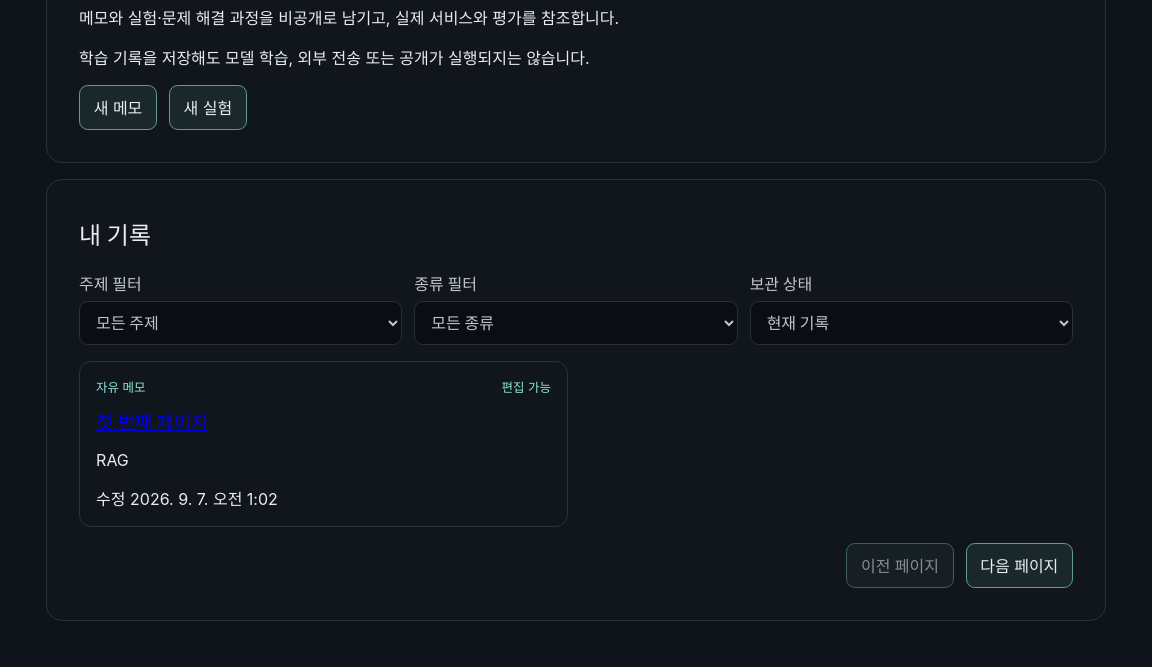
Test: LearningListPage › resets pagination on filters and ignores an older response that arrives late
The image size is (1152, 667).
(page scrolled)
Check: the link "첫 번째 페이지" is shown, box [96, 411, 208, 434]
Click the button "다음 페이지" at [1019, 565], box [966, 543, 1073, 588]
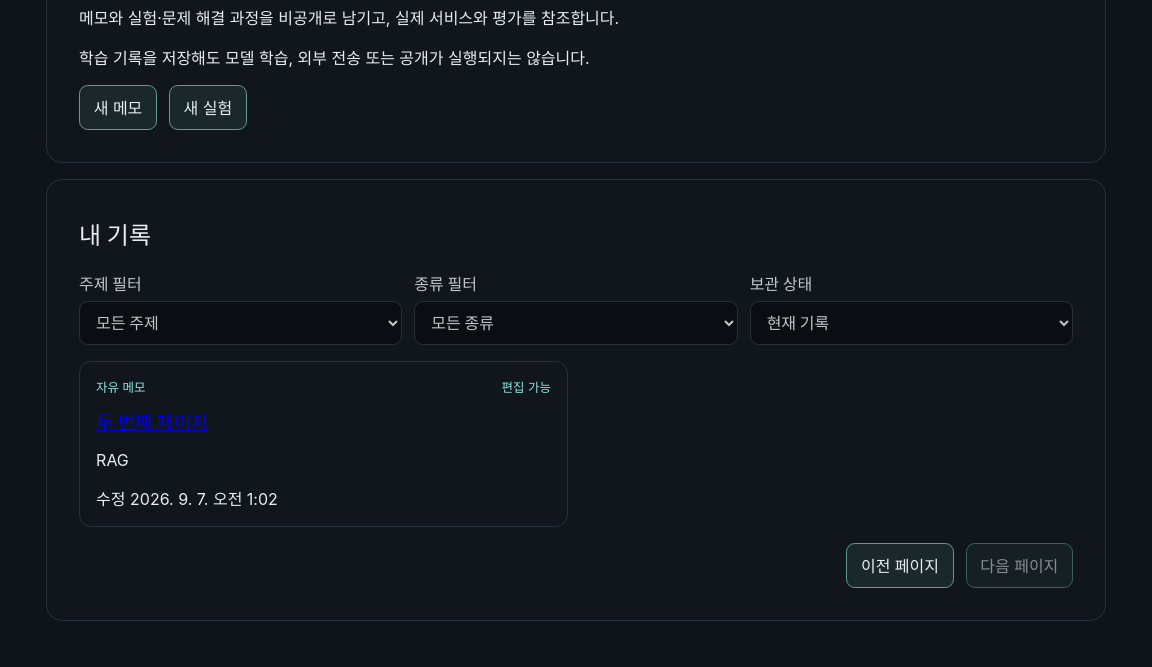
Check: the link "두 번째 페이지" is shown, box [96, 411, 208, 434]
Select "RAG" in the dropdown labelled "주제 필터" at [241, 323], box [79, 300, 402, 345]
(page scrolled)
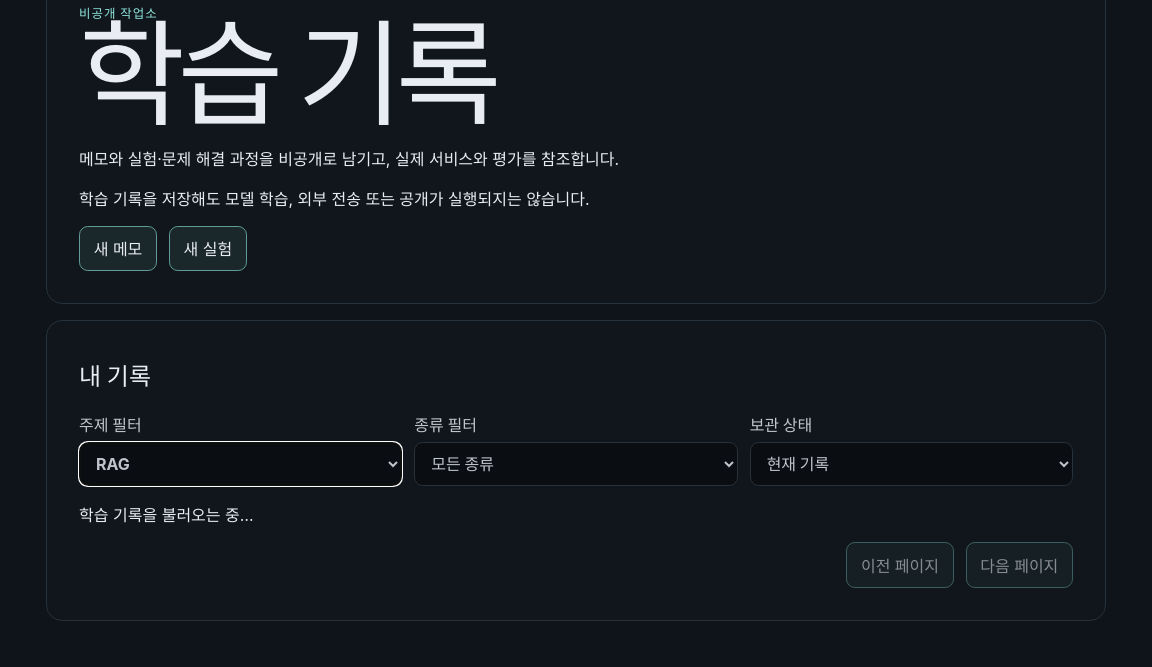
Select "파인튜닝" in the dropdown labelled "주제 필터" at [241, 464], box [79, 442, 402, 486]
(page scrolled)
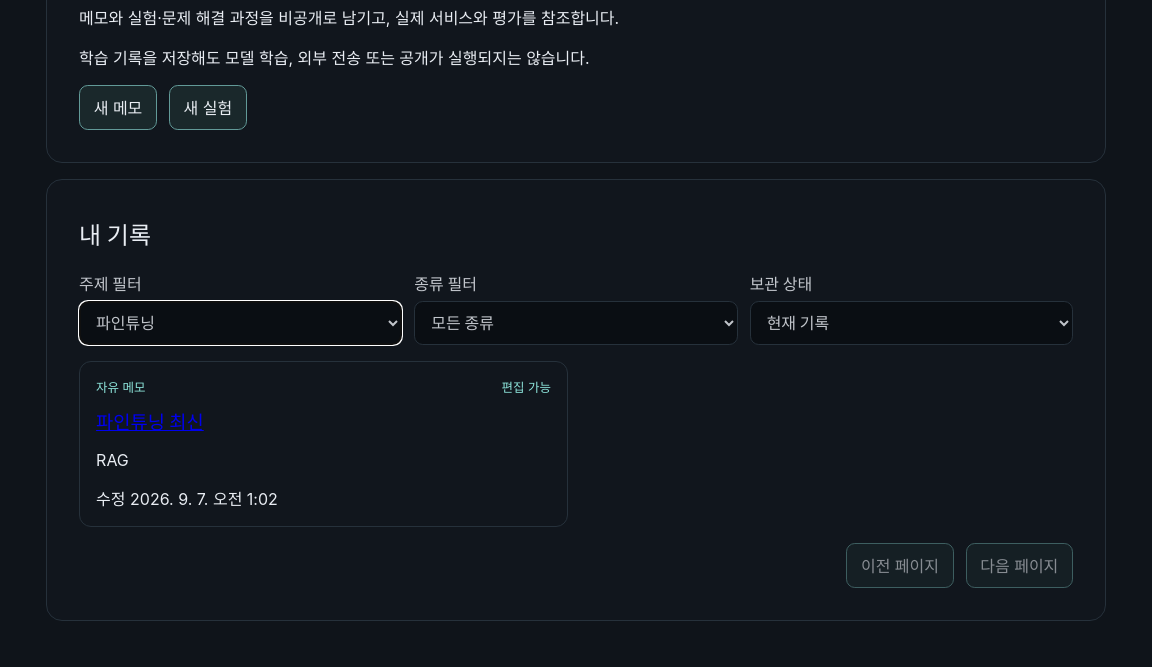
Check: the link "파인튜닝 최신" is shown, box [96, 411, 204, 434]
